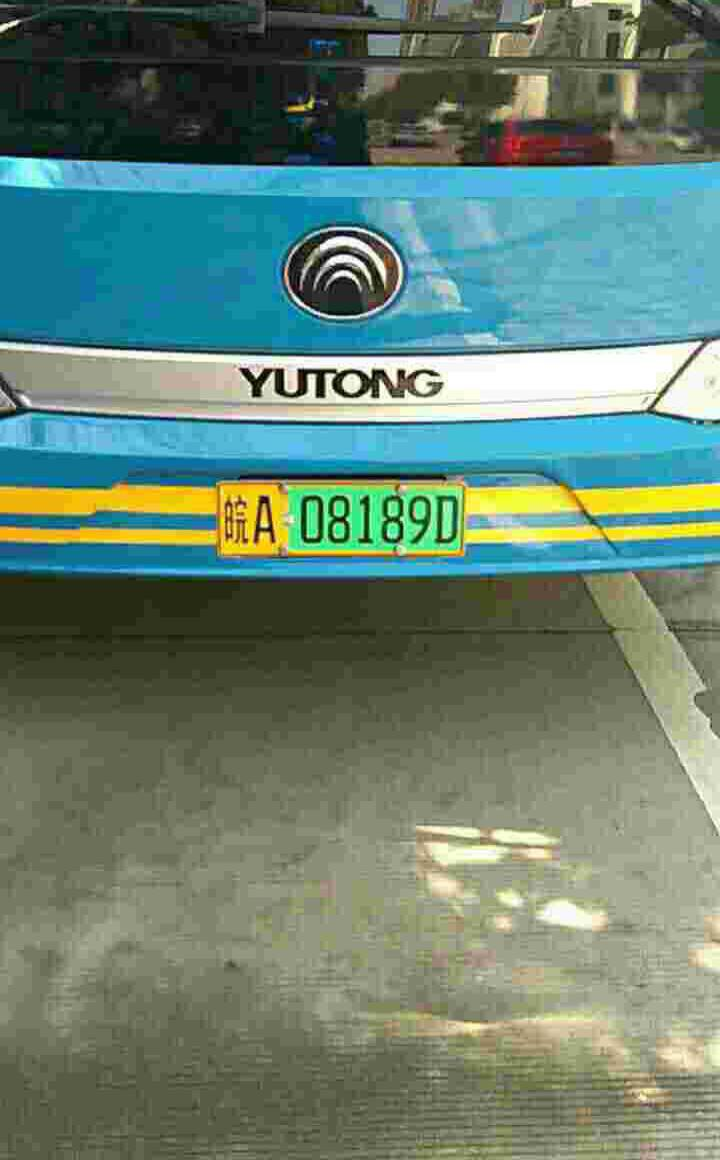car: (210, 477, 475, 557)
